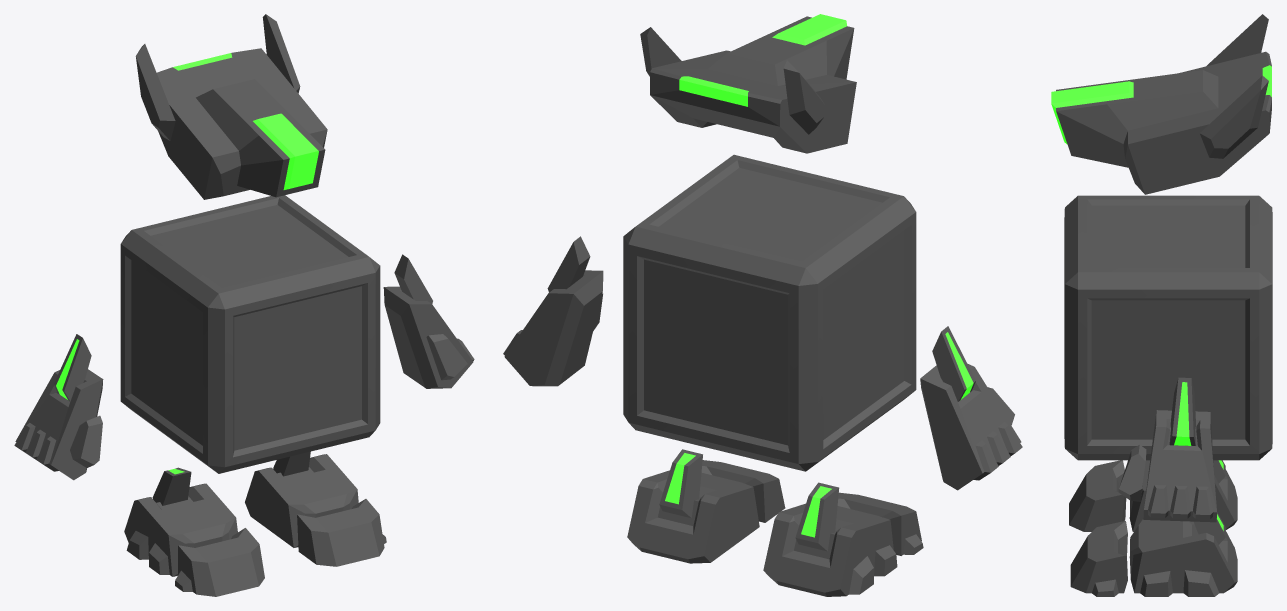
The model's file is SM_DiceBot.fbx.
3 views of the same model, side by side, from view 1: azimuth 30°, elevation 25°; view 2: azimuth 150°, elevation 25°; view 3: azimuth 270°, elevation 25° (orthographic). The views are drawn at different scales.
Parts seen in each view (by area): view 1: SK_Dice_DiceBot, SK_Head_DiceBot, SK_Hand_R_DiceBot, SK_Feet_R_DiceBot, SK_Feet_L_DiceBot, SK_Hand_L_DiceBot, SK_Toe_R_DiceBot, SK_Toe_L_DiceBot; view 2: SK_Dice_DiceBot, SK_Head_DiceBot, SK_Feet_R_DiceBot, SK_Feet_L_DiceBot, SK_Hand_R_DiceBot, SK_Hand_L_DiceBot, SK_Toe_R_DiceBot, SK_Toe_L_DiceBot; view 3: SK_Dice_DiceBot, SK_Head_DiceBot, SK_Hand_L_DiceBot, SK_Feet_L_DiceBot, SK_Toe_L_DiceBot, SK_Toe_R_DiceBot, SK_Feet_R_DiceBot.
Part boxes in pixels (left/top/right/bottom): SK_Dice_DiceBot: left=120, top=195, right=380, bottom=473; SK_Head_DiceBot: left=135, top=14, right=327, bottom=199; SK_Hand_R_DiceBot: left=14, top=334, right=103, bottom=480; SK_Feet_R_DiceBot: left=124, top=467, right=237, bottom=576; SK_Feet_L_DiceBot: left=245, top=451, right=358, bottom=547; SK_Hand_L_DiceBot: left=383, top=254, right=474, bottom=388; SK_Toe_R_DiceBot: left=175, top=528, right=264, bottom=596; SK_Toe_L_DiceBot: left=297, top=499, right=386, bottom=566; SK_Dice_DiceBot: left=623, top=154, right=916, bottom=471; SK_Head_DiceBot: left=640, top=14, right=856, bottom=153; SK_Feet_R_DiceBot: left=763, top=482, right=897, bottom=596; SK_Feet_L_DiceBot: left=627, top=449, right=759, bottom=563; SK_Hand_R_DiceBot: left=920, top=326, right=1022, bottom=490; SK_Hand_L_DiceBot: left=503, top=236, right=603, bottom=386; SK_Toe_R_DiceBot: left=837, top=492, right=923, bottom=555; SK_Toe_L_DiceBot: left=701, top=460, right=785, bottom=522; SK_Dice_DiceBot: left=1064, top=195, right=1272, bottom=460; SK_Head_DiceBot: left=1051, top=14, right=1271, bottom=194; SK_Hand_L_DiceBot: left=1118, top=377, right=1216, bottom=522; SK_Feet_L_DiceBot: left=1129, top=512, right=1237, bottom=596; SK_Toe_L_DiceBot: left=1070, top=521, right=1127, bottom=596; SK_Toe_R_DiceBot: left=1069, top=460, right=1126, bottom=531; SK_Feet_R_DiceBot: left=1129, top=460, right=1237, bottom=531.
Bounding box in the file's own units: 197 × 209 × 83.93.
